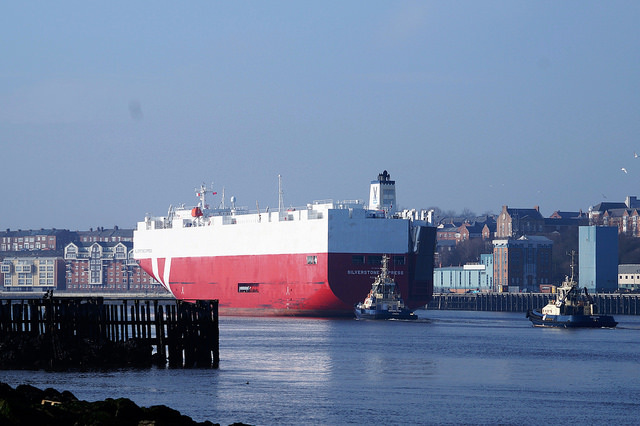PCC: (134, 178, 441, 321)
tug_boat: (528, 248, 621, 333), (354, 254, 420, 321)
